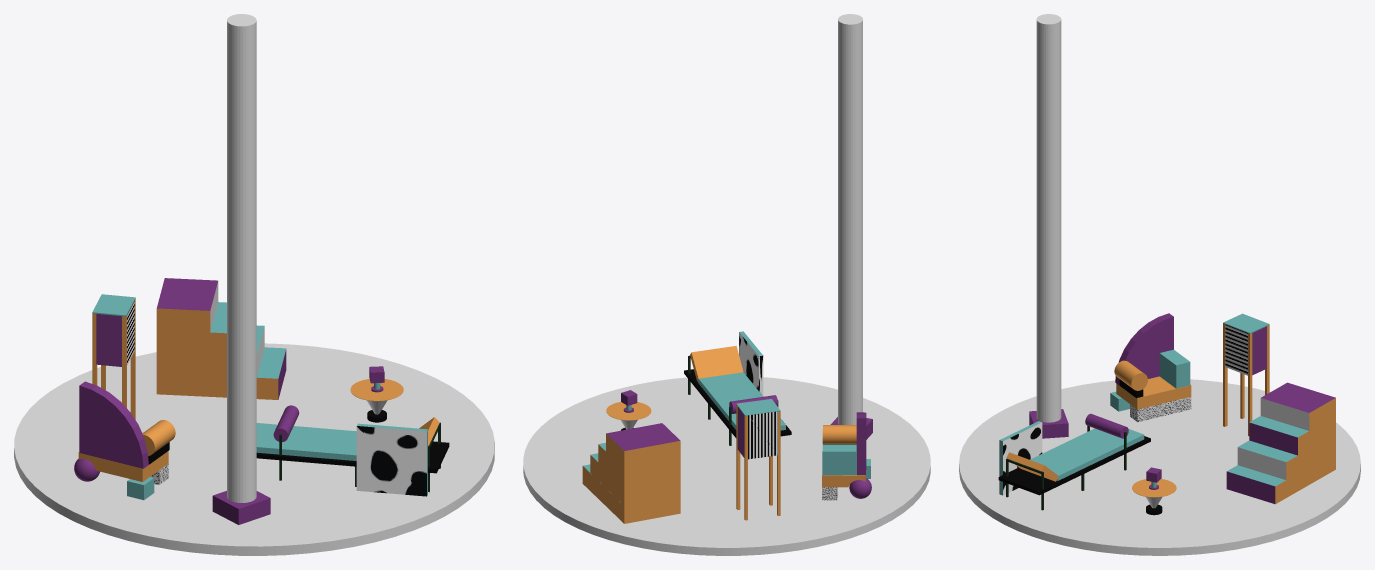
File: STANZA3.gltf
The picture shows the model from 3 angles, left to right: view 1: azimuth 30°, elevation 25°; view 2: azimuth 150°, elevation 25°; view 3: azimuth 270°, elevation 25°; orthographic projection. The views are drawn at different scales.
Visible parts, largest first — view 1: Cylinder, Cylinder.002, Cube.009, Cube.101, Cube.111, Cube.046, Cube.132, Cube.110, Cube.109, Cube.150, Cube.008, Cube.086 (+4 smaller); view 2: Cylinder, Cylinder.002, Cube.111, Cube.046, Cube.109, Cube.132, Cube.110, Cube.131, Cube.141, Cube.135, Cube.009, Cylinder.017 (+4 smaller); view 3: Cylinder, Cylinder.002, Cube.132, Cube.111, Cube.046, Cube.109, Cube.101, Cube.110, Cube.009, Cube.133, Cube.086, Cube.135 (+9 smaller).
Boxes of the visible parts, box(x1,y1,x2,y2) form: Cylinder: box(14, 343, 494, 555); Cylinder.002: box(227, 14, 256, 502); Cube.009: box(356, 423, 427, 496); Cube.101: box(79, 381, 148, 468); Cube.111: box(156, 278, 218, 332); Cube.046: box(156, 347, 286, 399); Cube.132: box(256, 423, 356, 460); Cube.110: box(156, 302, 226, 354); Cube.109: box(156, 325, 264, 376); Cube.150: box(96, 314, 121, 366); Cube.008: box(212, 491, 270, 524); Cube.086: box(78, 451, 168, 481); Cylinder: box(523, 377, 930, 555); Cylinder.002: box(838, 14, 862, 424); Cube.111: box(606, 423, 680, 469); Cube.046: box(582, 464, 680, 523); Cube.109: box(590, 453, 680, 505); Cube.132: box(698, 372, 785, 430); Cube.110: box(598, 442, 680, 487); Cube.131: box(690, 346, 743, 381); Cube.141: box(748, 411, 777, 459); Cube.135: box(822, 444, 856, 475); Cube.009: box(739, 331, 763, 395); Cylinder.017: box(822, 425, 856, 444); Cylinder: box(959, 379, 1360, 555); Cylinder.002: box(1036, 14, 1061, 422); Cube.132: box(1030, 428, 1144, 480); Cube.111: box(1260, 382, 1335, 430); Cube.046: box(1226, 452, 1335, 504); Cube.109: box(1237, 434, 1335, 479); Cube.101: box(1115, 313, 1173, 385); Cube.110: box(1249, 416, 1335, 455); Cube.009: box(999, 421, 1042, 495); Cube.133: box(998, 436, 1150, 495); Cube.086: box(1116, 376, 1191, 409); Cube.135: box(1159, 349, 1190, 388).
Size of the model in its own units: 4.37 by 5.04 by 4.37.
12 materials, 4 textured.
